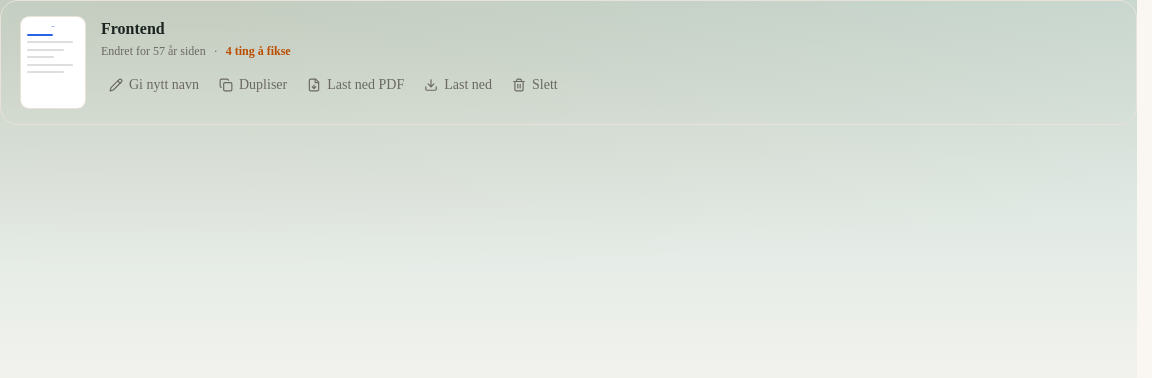
it: the delete warning › says it goes from the account and every device when signed in
This screenshot has width=1152, height=378.
Click the button "Slett" at (535, 85), box 504,71 -> 566,99
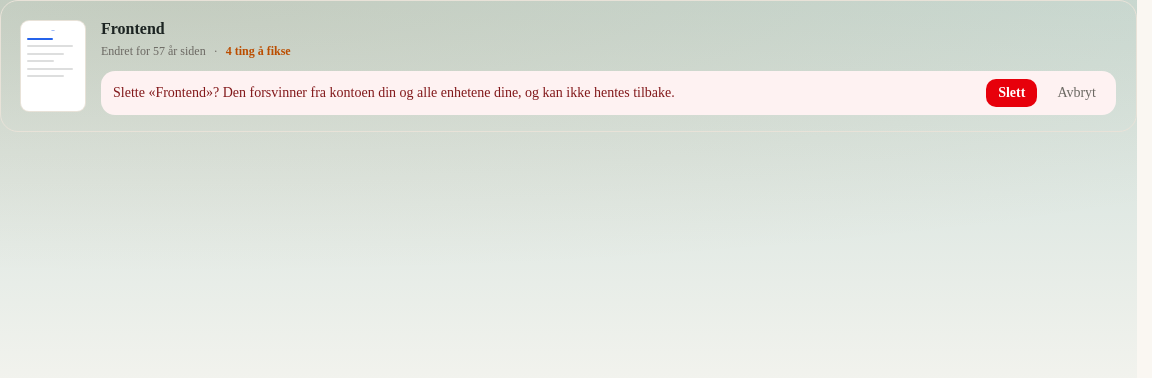
Expected: the text "kontoen din og alle enhetene dine" is shown, 113,85 -> 675,100
